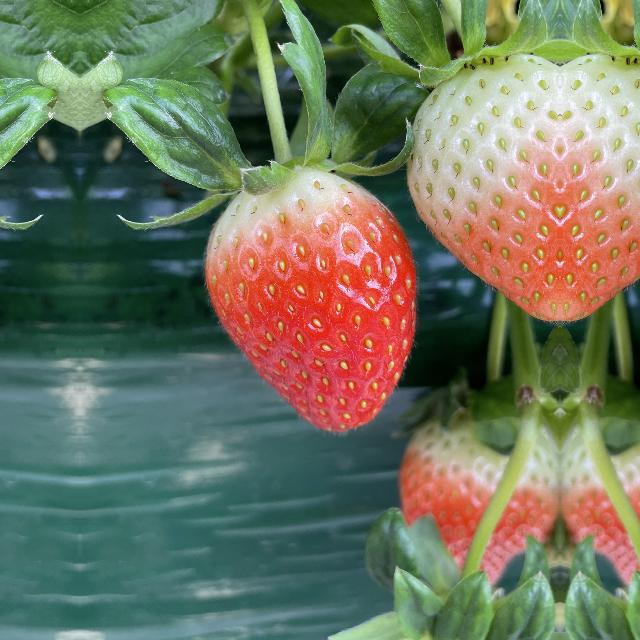Health_100: (198, 162, 428, 436)
Health_75: (404, 33, 560, 321), (560, 33, 640, 321)
